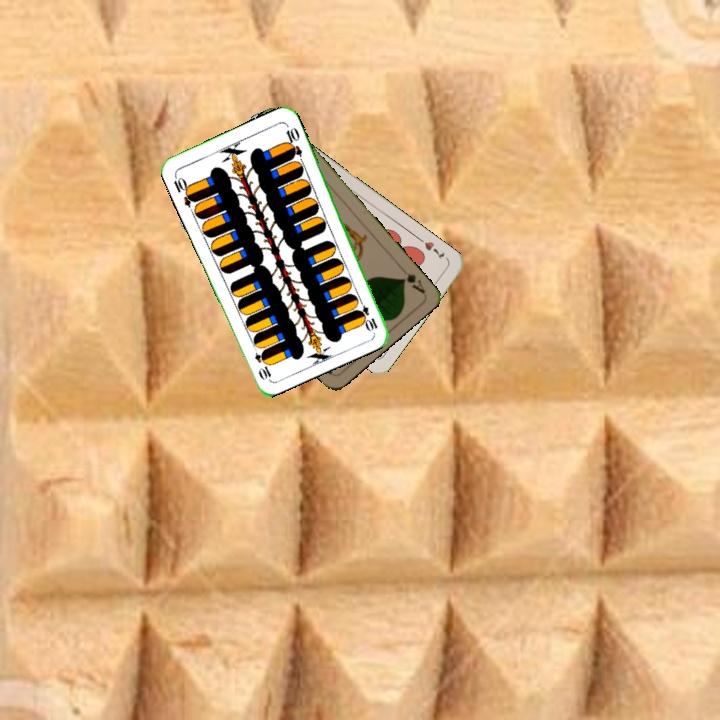E10: (169, 171, 198, 209), (354, 295, 380, 334)
GA: (396, 262, 428, 296)
H7: (420, 237, 447, 262)
